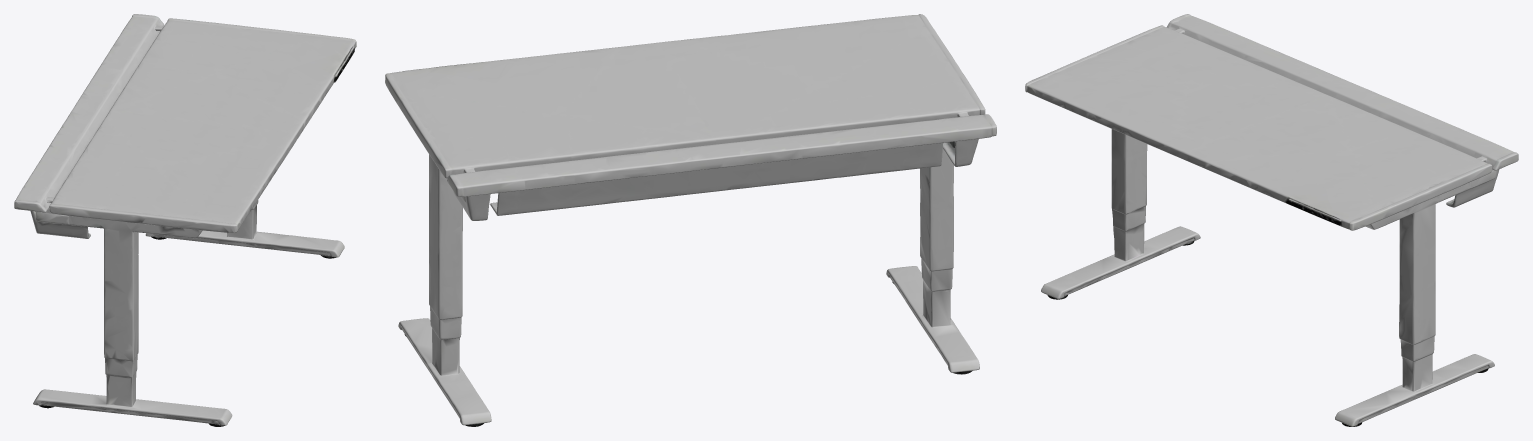
File: secretlab-co-products-secretlab-magnus-pro-xl-box-1-white-ac172d.glb
The picture shows the model from 3 angles, left to right: view 1: azimuth 30°, elevation 25°; view 2: azimuth 150°, elevation 25°; view 3: azimuth 270°, elevation 25°; orthographic projection. The views are drawn at different scales.
Parts seen in each view (by area): view 1: tripo_node_8566ee05-816b-4615-a3e5-75fbb0e34259; view 2: tripo_node_8566ee05-816b-4615-a3e5-75fbb0e34259; view 3: tripo_node_8566ee05-816b-4615-a3e5-75fbb0e34259.
Boxes of the visible parts, x1,y1,x2,y2 form: tripo_node_8566ee05-816b-4615-a3e5-75fbb0e34259: (14,14,356,426); tripo_node_8566ee05-816b-4615-a3e5-75fbb0e34259: (385,14,996,426); tripo_node_8566ee05-816b-4615-a3e5-75fbb0e34259: (1025,14,1518,426).
Size of the model in its own units: 1.06 by 0.5008 by 1.05.
1 material, 1 textured.
